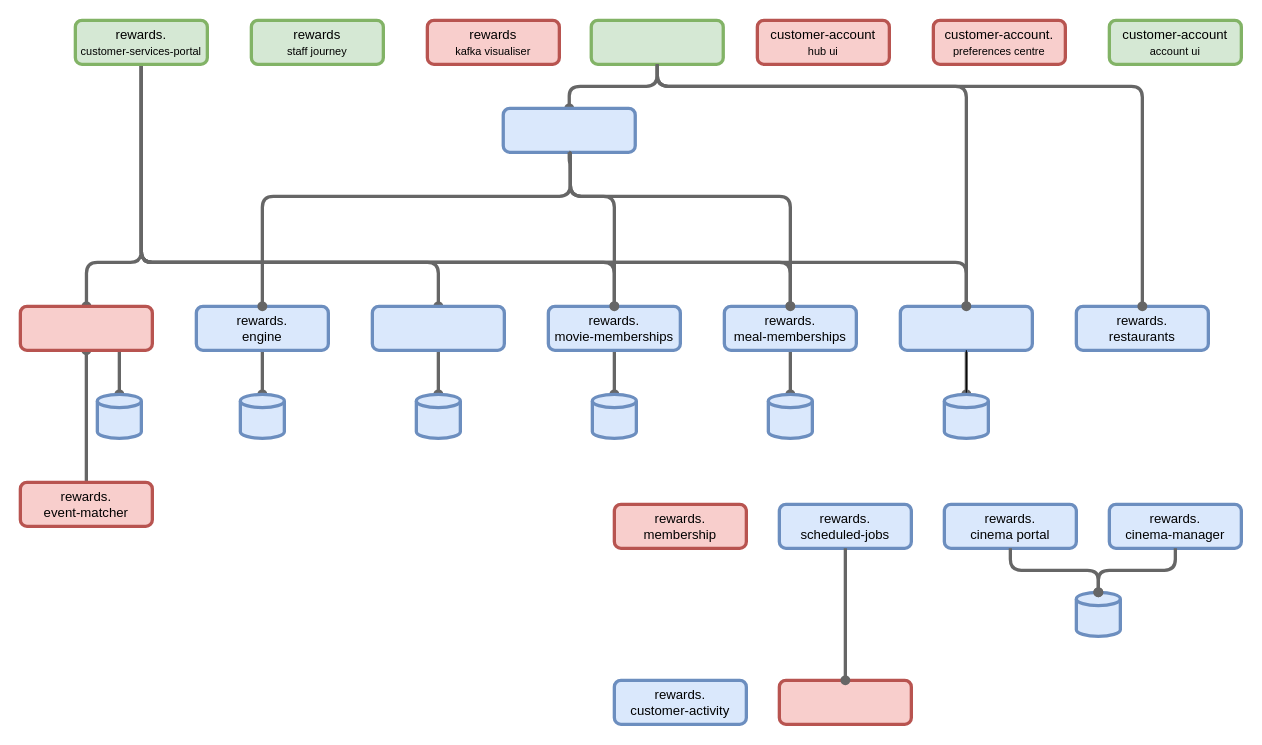
Some shapes in this 1262 by 745 pixel diagram are drawn without their labels. Here are the shapes that lost their labels. From the top down, the centre of each, then its label:
pixel 656 41: rewards user journey
pixel 568 129: rewards gateway
pixel 85 327: rewards. enquiry-action-history
pixel 437 327: rewards. claims
pixel 965 327: rewards. issue-redeem
pixel 844 701: rewards. toy-orders
